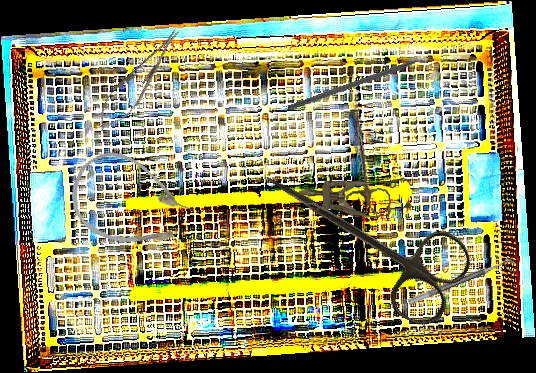Cannula: (59, 141, 203, 266)
Fixation Ring: (407, 256, 519, 314)
Hook Surgical: (287, 52, 436, 113)
Iris Scissors: (240, 140, 480, 334), (332, 109, 393, 219)
Needle Holder: (88, 21, 190, 139)
Speculum: (297, 171, 414, 220)
